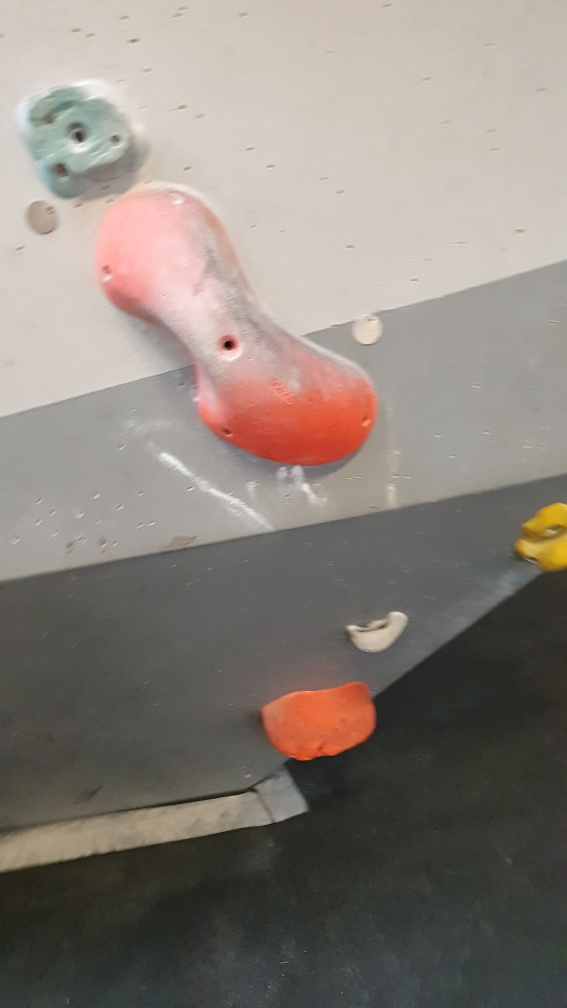Pinch: (90, 182, 378, 468)
